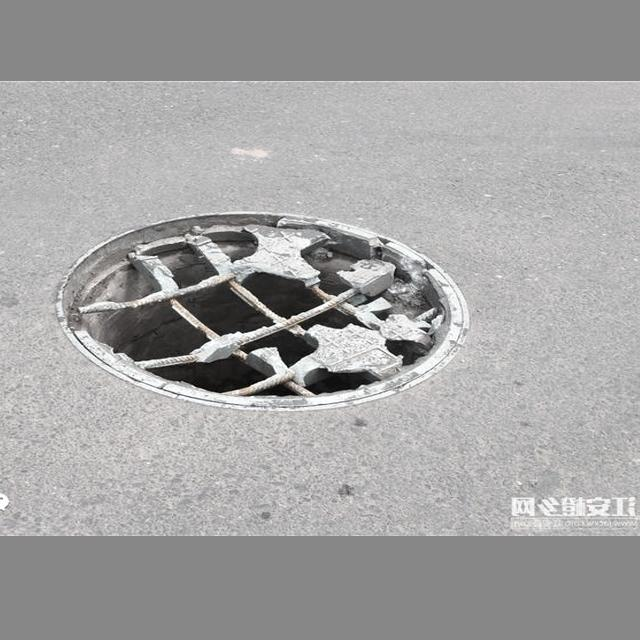broke: (55, 194, 475, 420)
